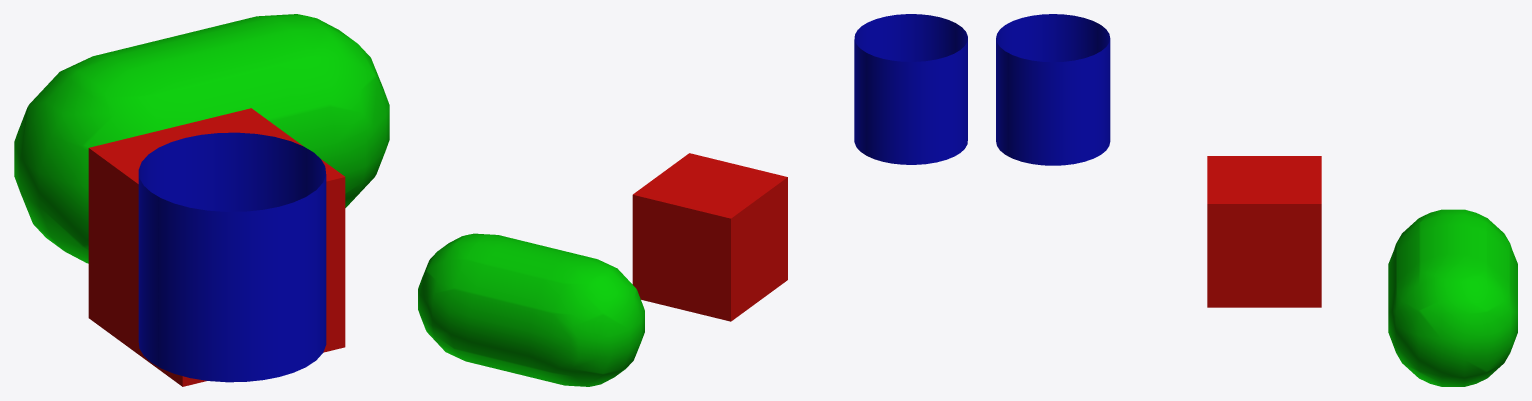
Rendered from agata.obj.
The picture shows the model from 3 angles, left to right: view 1: azimuth 30°, elevation 25°; view 2: azimuth 150°, elevation 25°; view 3: azimuth 270°, elevation 25°; orthographic projection. The views are drawn at different scales.
Visible parts, largest first — view 1: dados, meia_bola, cubozinho; view 2: meia_bola, cubozinho, dados; view 3: meia_bola, cubozinho, dados.
Boxes of the visible parts, bbox=[...] form: dados: bbox=[138, 132, 326, 382]; meia_bola: bbox=[14, 14, 389, 263]; cubozinho: bbox=[88, 108, 345, 386]; meia_bola: bbox=[418, 233, 644, 386]; cubozinho: bbox=[632, 153, 787, 321]; dados: bbox=[854, 14, 967, 164]; meia_bola: bbox=[1388, 209, 1517, 386]; cubozinho: bbox=[1207, 156, 1321, 307]; dados: bbox=[996, 14, 1110, 165].
Bounding box in the file's own units: 6.79 × 4.45 × 9.14.
